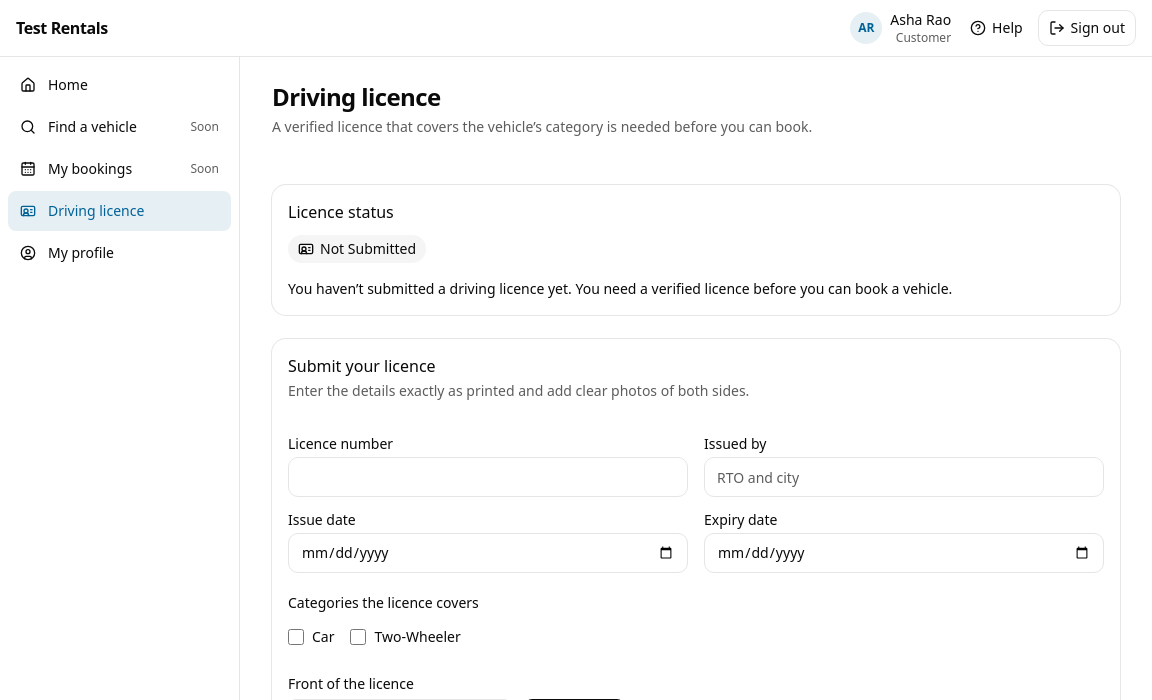
Test: licence submission (customer) › refuses an already-expired licence (BR-2)
Type "2020-01-01" into the date field labelled "Expiry date" at [904, 553], box [704,533,1104,573]
(page scrolled)
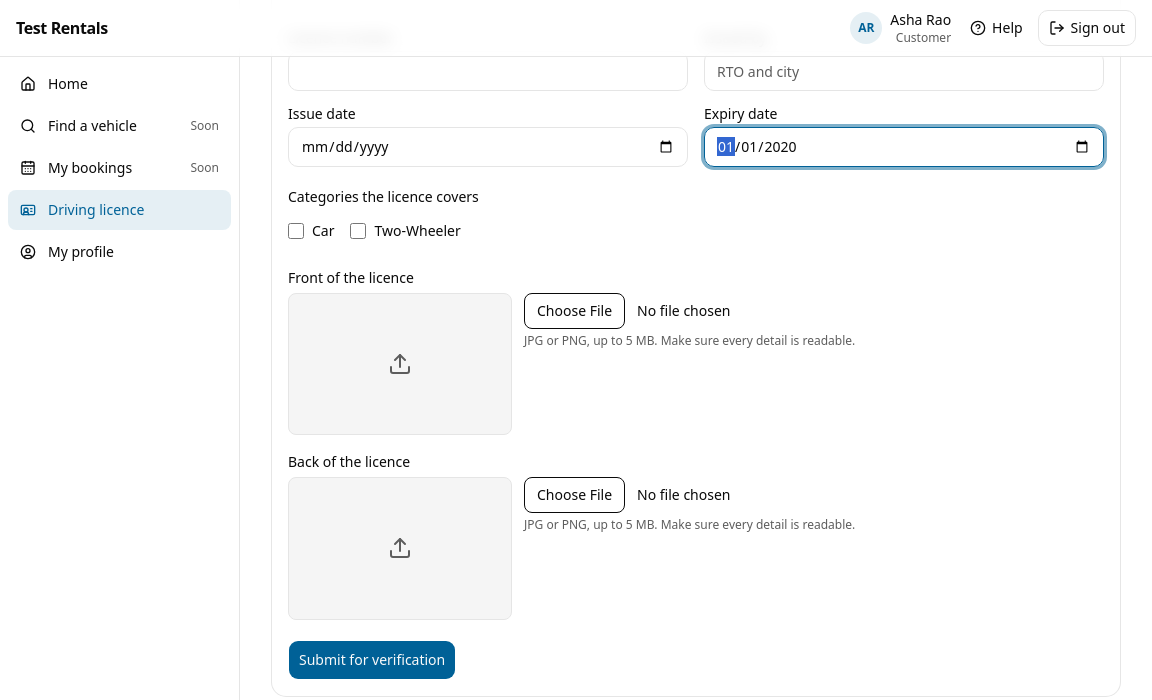
Click the button "Submit for verification" at [372, 660], box [288,640,456,680]
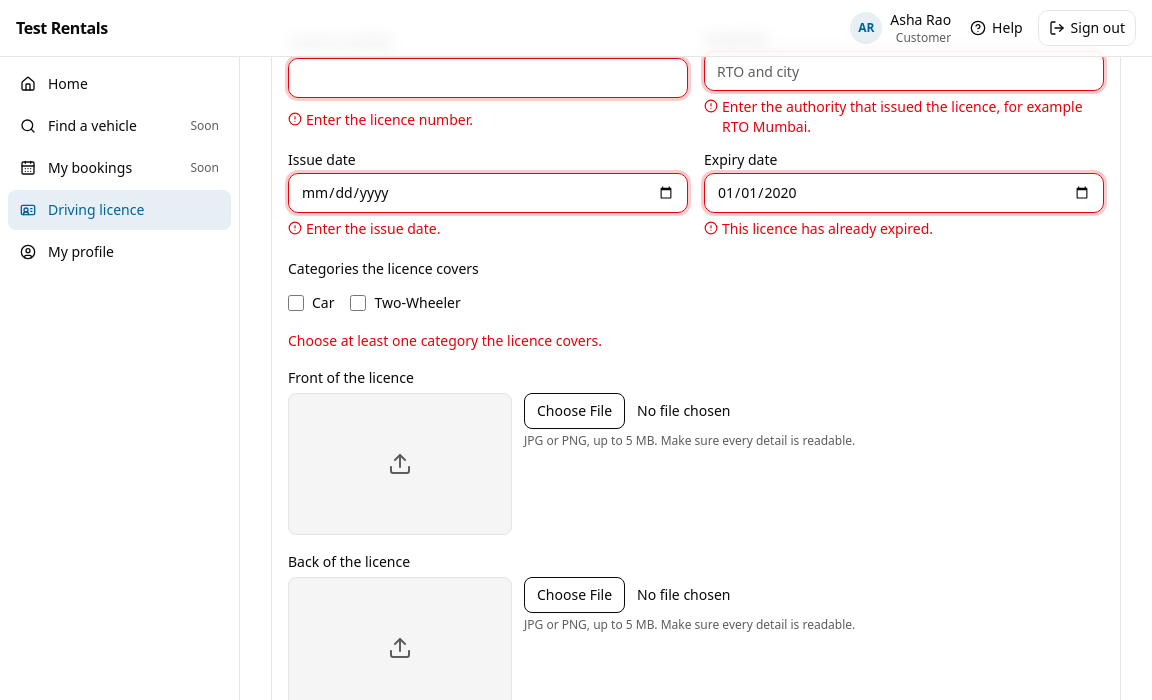
Result: the text "This licence has already expired." is shown at [722,219,933,239]
